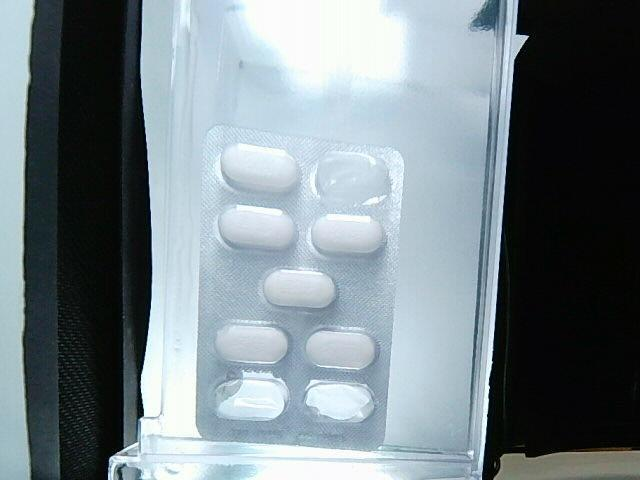Light Front: (194, 125, 405, 455)
No Pill Front: (314, 151, 390, 207), (216, 371, 288, 420), (304, 380, 375, 421)
Pill Front: (221, 144, 298, 192), (219, 205, 297, 249), (215, 321, 288, 364), (311, 214, 384, 256), (264, 269, 336, 308), (306, 330, 377, 369)
